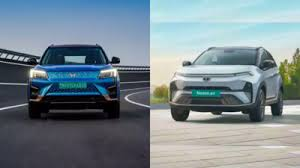XUV 400: (26, 42, 122, 117)
